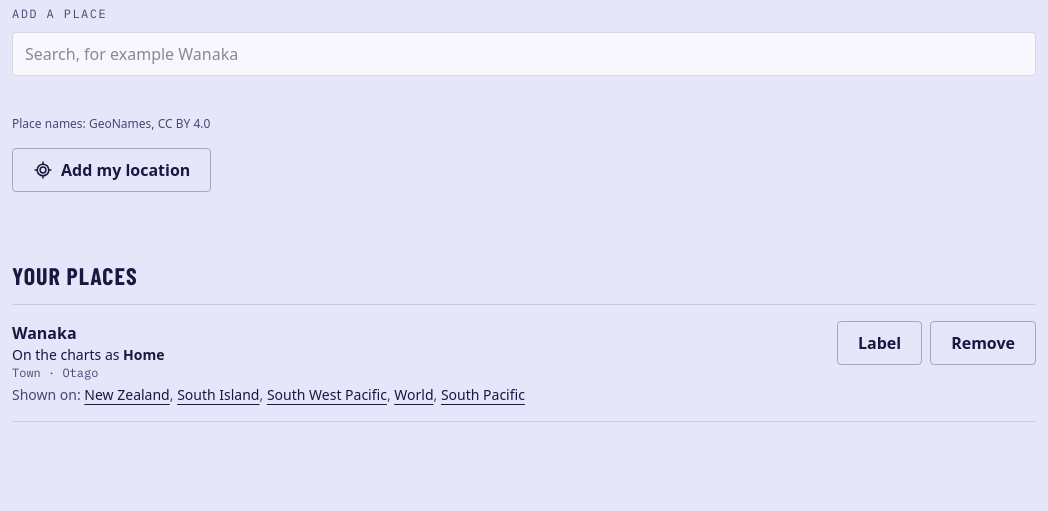
Test: <PinsPage /> › labelling › cancels without changing anything
Click the button with aria-label "Label Wanaka" at point(880, 343), box [837,321,922,365]
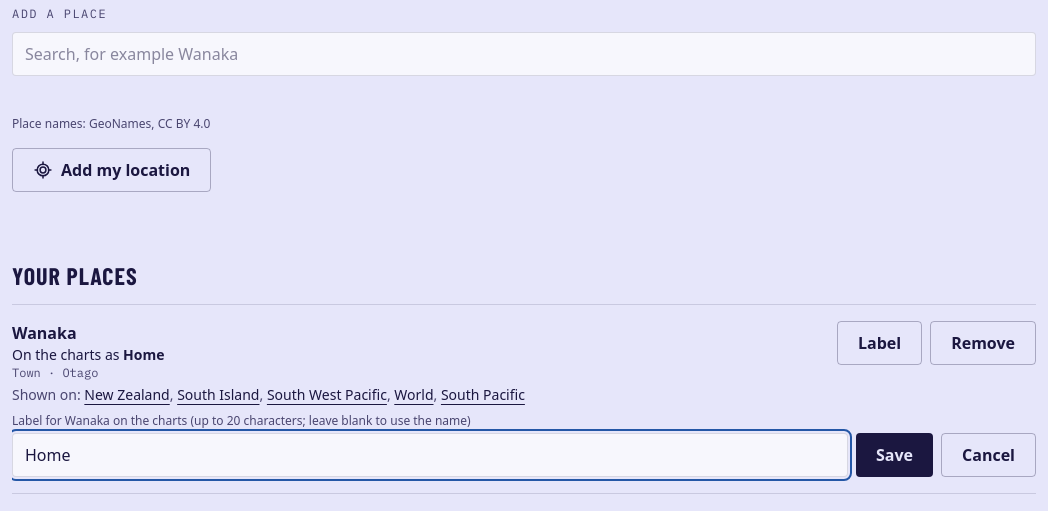
Replace the text in the field labelled "Label for Wanaka on the charts" with "Other" at point(430, 455), box [12,433,848,477]
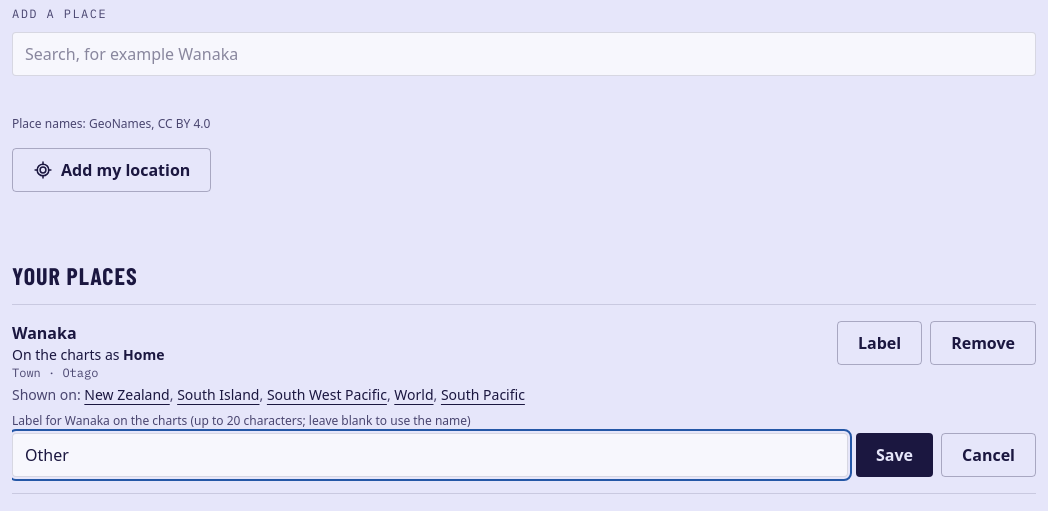
Click the button "Cancel" at point(989, 455), box [941,433,1036,477]
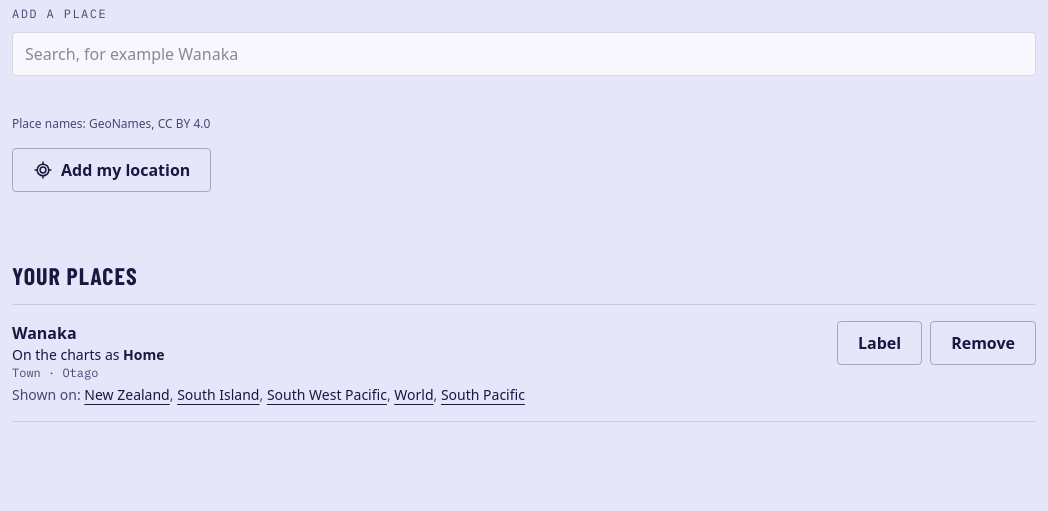
Expected: the text "Home" is shown, [123,345,164,364]
Expected: the label labelled "Label for Wanaka" is gone
